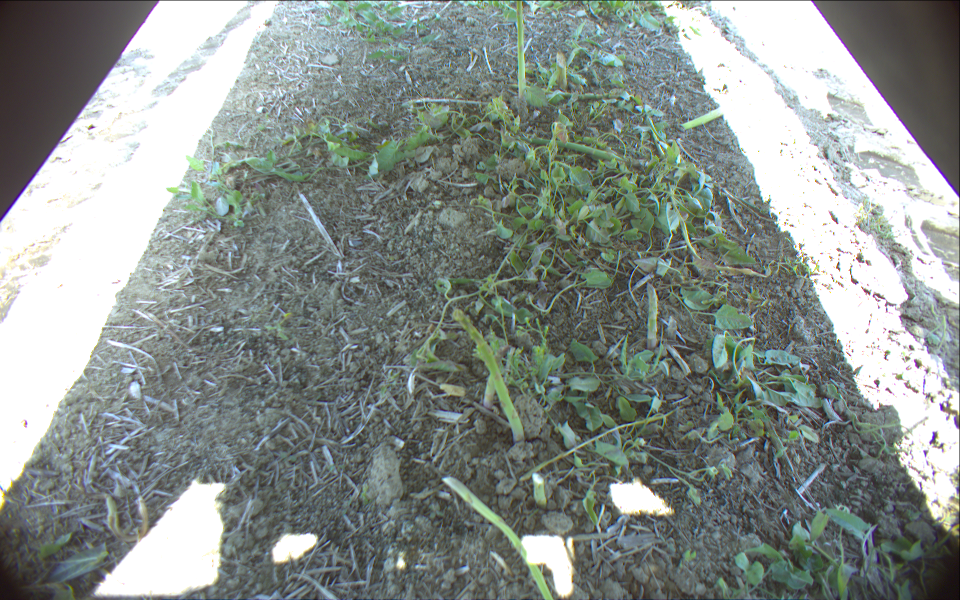aspa: (442, 476, 553, 600), (451, 309, 525, 443), (521, 134, 625, 165), (678, 104, 729, 130), (645, 282, 659, 347), (516, 1, 525, 102), (531, 472, 547, 503), (555, 53, 567, 87)
